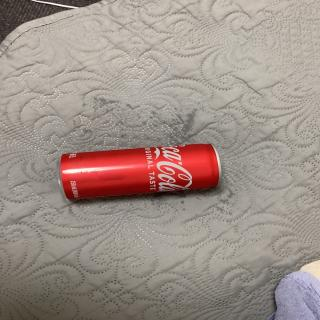cocacola: (55, 138, 228, 203)
